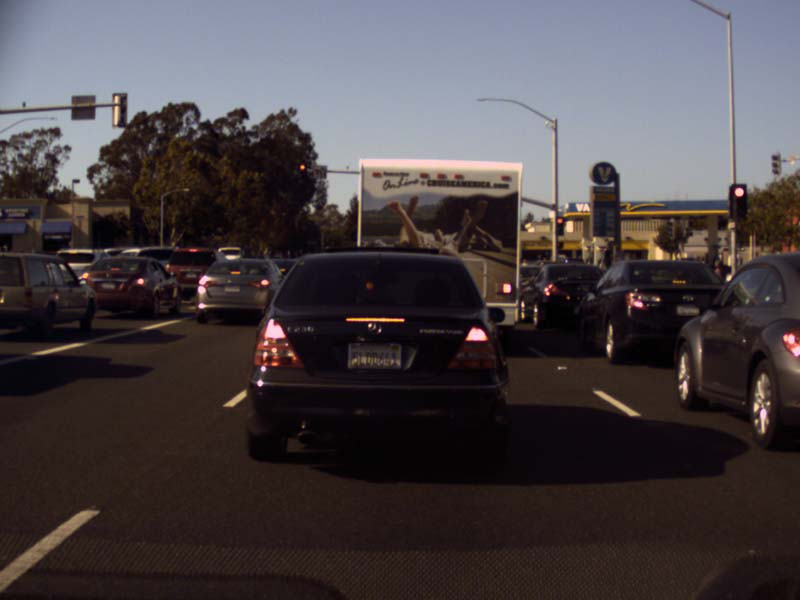Red: (728, 183, 746, 221), (298, 162, 306, 182), (555, 217, 563, 235)
